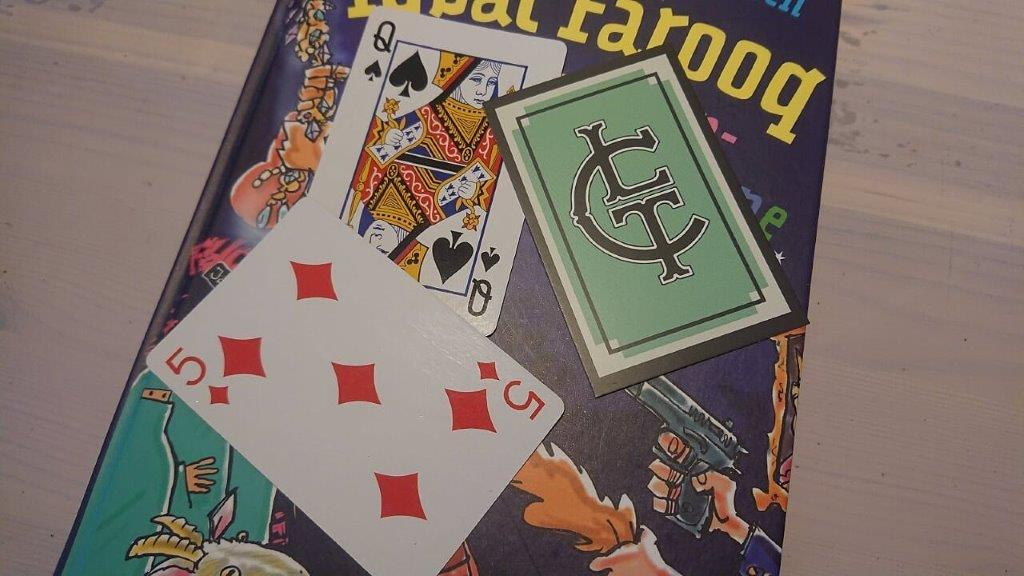5D: (161, 342, 234, 409)
QS: (361, 17, 399, 83)
